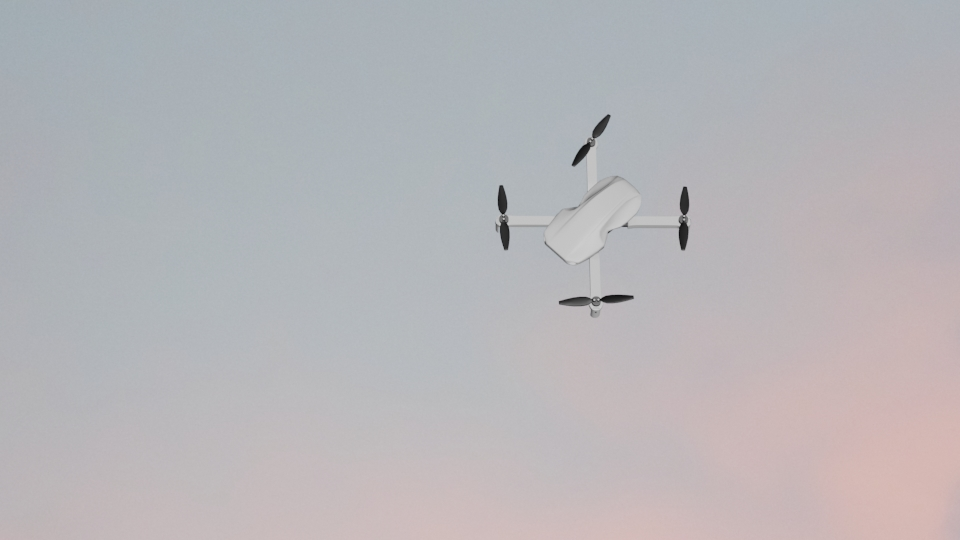drone: (498, 111, 696, 314)
